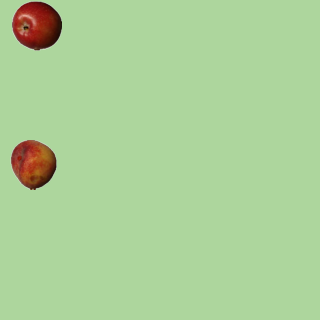Apple Braeburn: (11, 0, 61, 50)
Peach: (8, 139, 58, 189)
